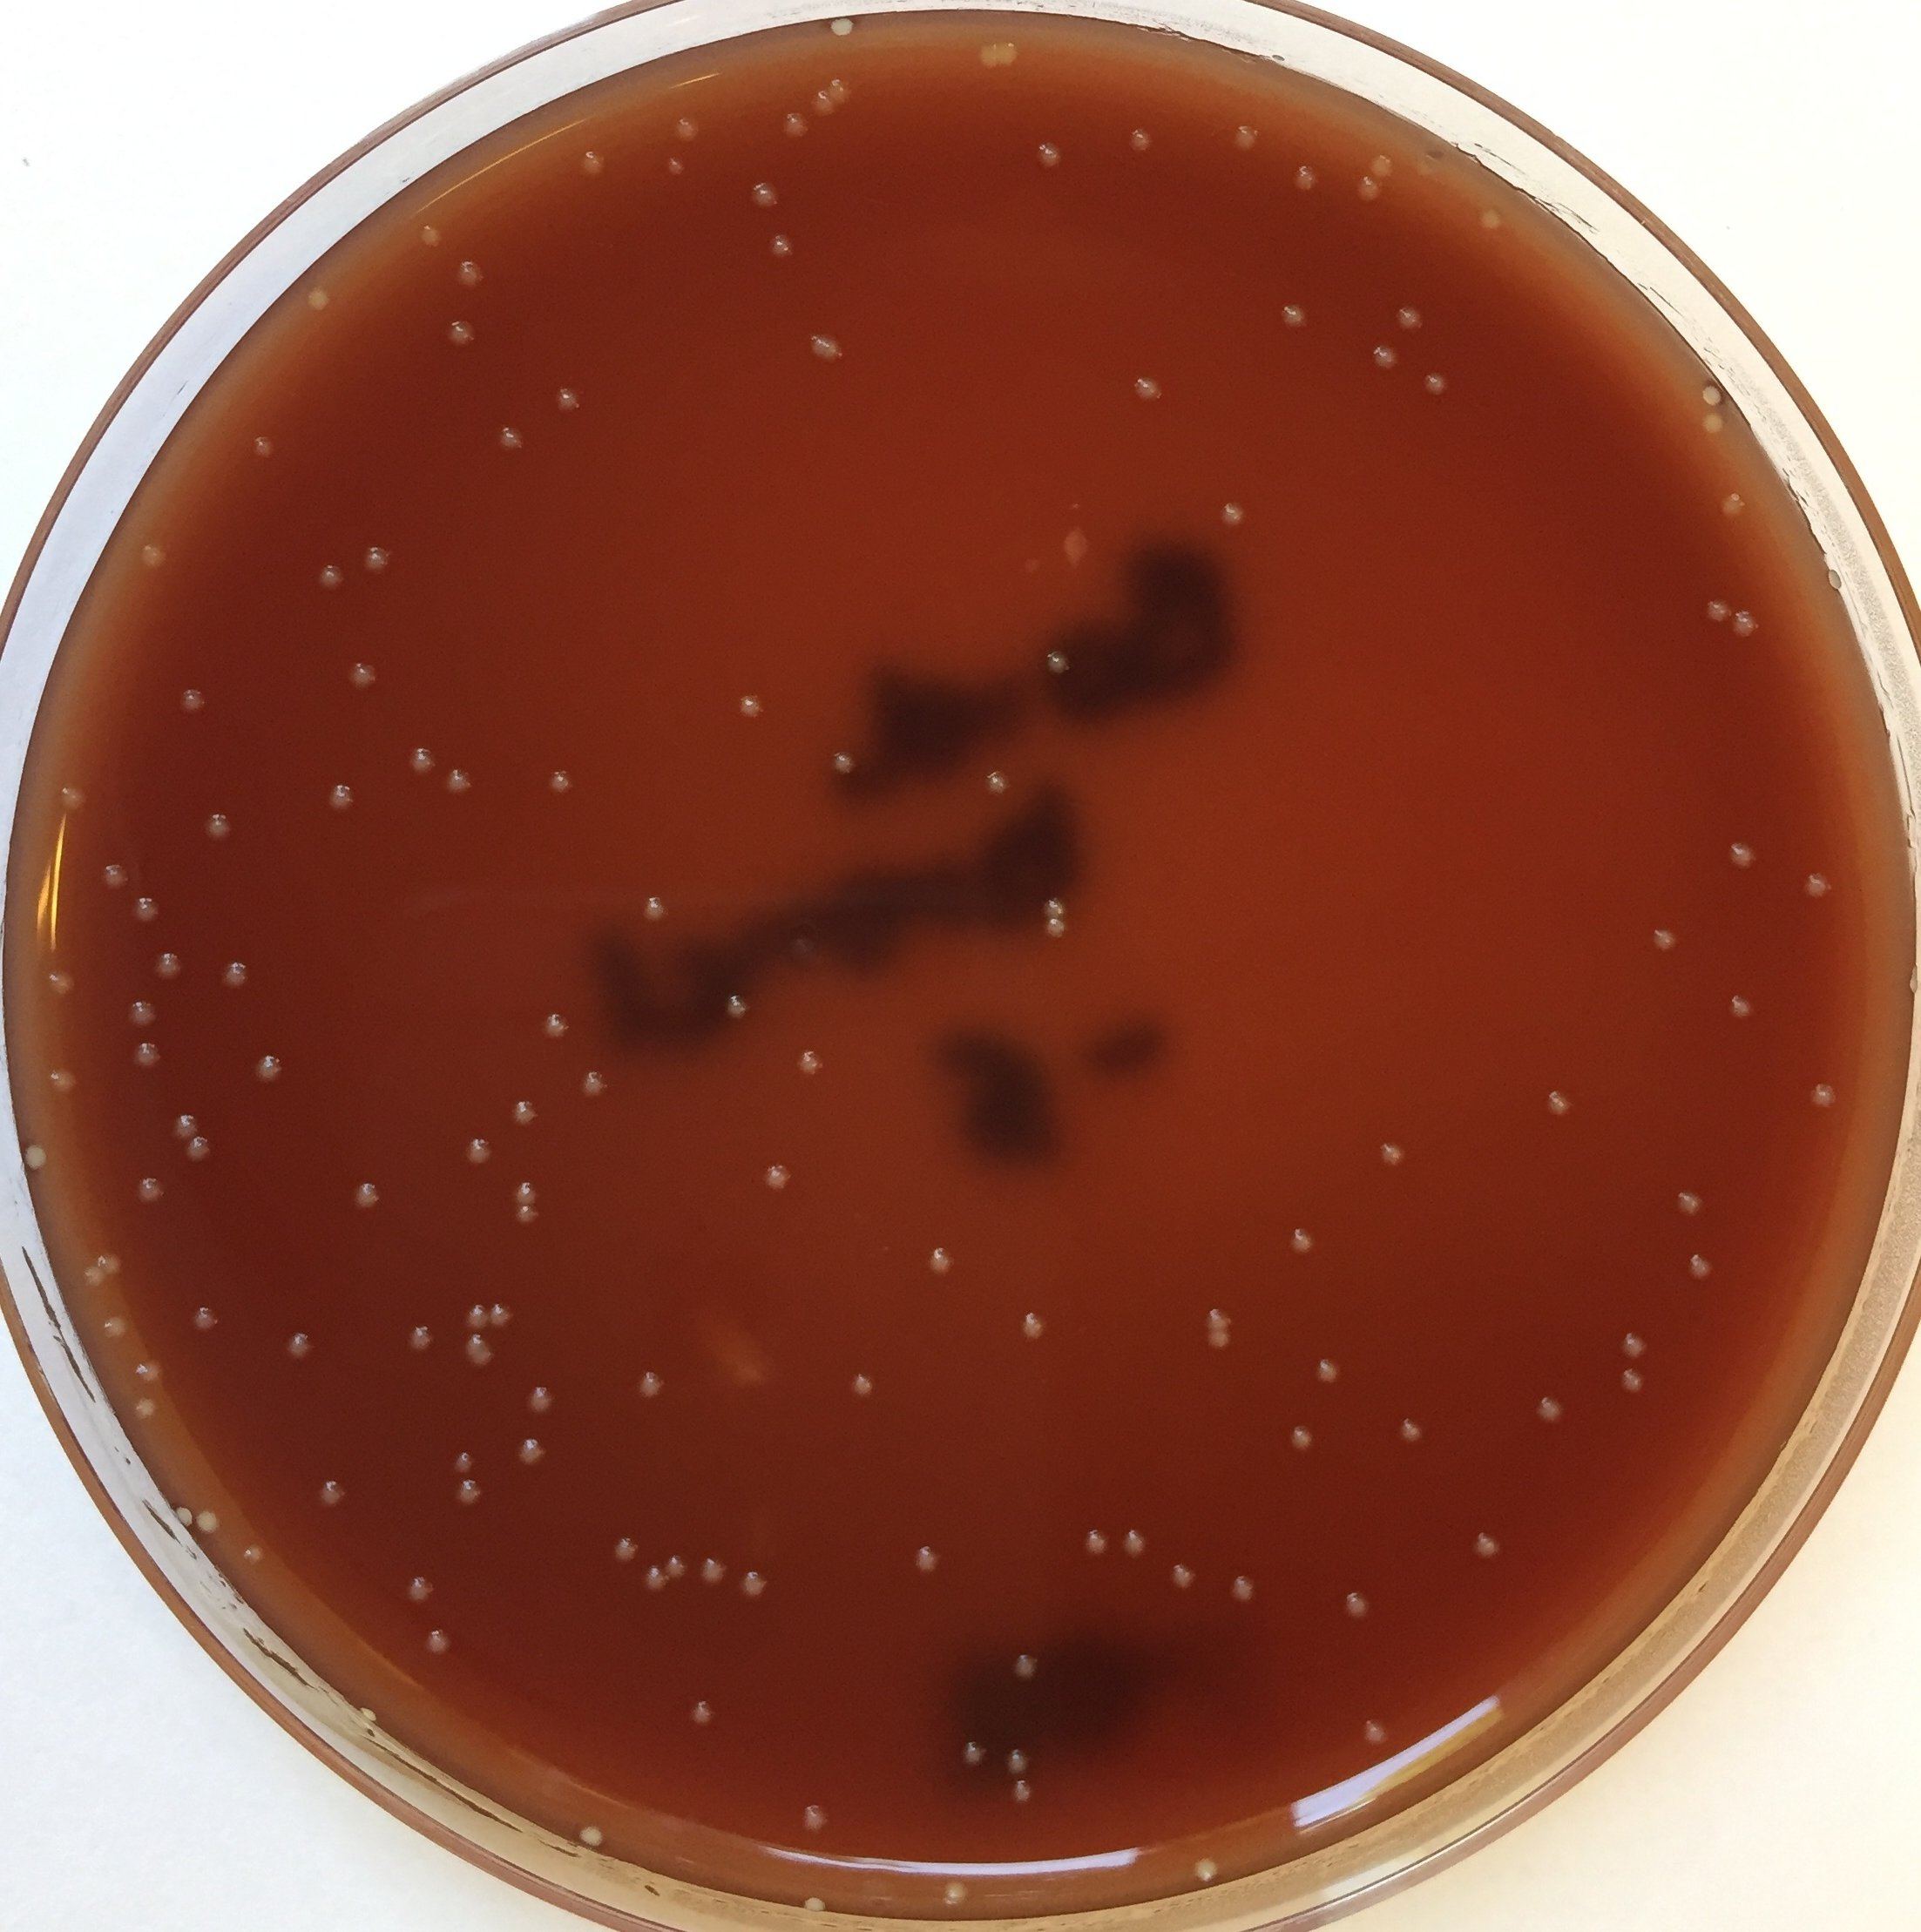sp06: (632, 1367, 676, 1406), (762, 1160, 802, 1200), (148, 947, 194, 982), (405, 1571, 443, 1610), (464, 1334, 503, 1372), (1474, 1691, 1509, 1733), (551, 384, 589, 421), (135, 537, 174, 574), (130, 890, 169, 927), (128, 1001, 165, 1040), (925, 1244, 962, 1281), (255, 1050, 292, 1087), (1471, 1529, 1508, 1566), (90, 1248, 127, 1284), (524, 1383, 561, 1418), (515, 1438, 552, 1473), (464, 1135, 501, 1170), (406, 741, 442, 778), (1339, 1589, 1376, 1624), (739, 1568, 776, 1603), (315, 561, 352, 596), (1228, 1571, 1263, 1606), (911, 1545, 946, 1580), (352, 1181, 387, 1216), (426, 1626, 461, 1661), (137, 1172, 172, 1207), (688, 1698, 723, 1733), (697, 1555, 732, 1591), (452, 1450, 487, 1485), (318, 1476, 355, 1510), (132, 1035, 169, 1068), (1478, 208, 1515, 241), (325, 781, 364, 813), (1019, 1311, 1054, 1344), (1536, 1394, 1569, 1429), (1620, 1327, 1654, 1362), (830, 12, 866, 46), (1286, 1423, 1321, 1457), (1231, 121, 1265, 157), (204, 811, 239, 845), (47, 966, 83, 999), (303, 285, 338, 318), (26, 1138, 60, 1174), (498, 1295, 531, 1330), (420, 223, 454, 259), (134, 1351, 167, 1387), (985, 37, 1020, 70), (667, 1547, 702, 1580), (1377, 1138, 1411, 1172), (1729, 839, 1763, 873), (222, 961, 255, 994), (1395, 304, 1428, 338), (195, 1302, 229, 1336), (813, 331, 846, 364), (289, 1328, 322, 1362), (350, 662, 383, 695), (1122, 1527, 1156, 1561), (512, 1179, 545, 1212), (1045, 648, 1077, 683), (408, 1320, 440, 1355), (1800, 873, 1835, 904), (500, 424, 535, 456), (1135, 373, 1166, 408), (614, 1534, 646, 1568), (642, 892, 674, 926), (751, 179, 785, 211), (512, 1096, 544, 1130), (829, 750, 862, 781), (1650, 926, 1682, 959), (1720, 489, 1752, 523), (1288, 1226, 1319, 1260), (1170, 1561, 1203, 1592), (1810, 1080, 1842, 1114), (1282, 301, 1316, 333), (447, 317, 478, 350), (47, 1063, 79, 1096), (1736, 609, 1768, 642), (250, 433, 281, 466), (1356, 172, 1390, 204), (457, 262, 489, 296), (987, 765, 1017, 801), (512, 1211, 547, 1240), (1203, 1332, 1238, 1362), (1676, 1188, 1708, 1219), (802, 1802, 834, 1833), (1397, 1416, 1428, 1448), (739, 690, 771, 721), (581, 1068, 612, 1100), (544, 1010, 575, 1042), (799, 1049, 830, 1080), (1727, 992, 1759, 1024), (1687, 1251, 1719, 1283), (1365, 1717, 1397, 1749), (1289, 162, 1321, 194), (783, 109, 814, 141), (449, 765, 480, 797), (130, 1394, 162, 1425), (1316, 1358, 1346, 1392), (60, 783, 93, 813), (674, 116, 704, 150), (102, 862, 135, 892), (1012, 1654, 1043, 1684), (547, 767, 579, 797), (1546, 1089, 1576, 1121), (1421, 368, 1453, 398), (1372, 341, 1404, 371), (1710, 598, 1740, 630), (1043, 894, 1075, 924), (960, 1740, 992, 1770), (647, 1564, 679, 1594), (454, 1480, 484, 1511), (174, 1112, 206, 1142), (1217, 501, 1251, 530), (1193, 1855, 1226, 1883), (1205, 1306, 1238, 1334), (577, 1823, 612, 1849), (181, 686, 211, 716), (725, 992, 755, 1022), (771, 232, 800, 262), (104, 1313, 134, 1343), (1367, 155, 1397, 185), (582, 150, 614, 178), (850, 1372, 881, 1401), (1622, 1369, 1650, 1401), (366, 544, 394, 575), (1043, 917, 1071, 947), (814, 84, 843, 114), (1085, 1527, 1112, 1559), (1703, 387, 1738, 410), (1128, 127, 1156, 155), (1006, 1779, 1034, 1807), (202, 1506, 230, 1534), (834, 76, 862, 104), (1038, 141, 1064, 171), (352, 1705, 382, 1731), (192, 1142, 223, 1167), (1010, 1744, 1038, 1770), (241, 1540, 267, 1568), (1705, 415, 1735, 440), (948, 1883, 975, 1909), (667, 146, 693, 172), (470, 1306, 489, 1334), (807, 1897, 830, 1918), (179, 1504, 190, 1529)
